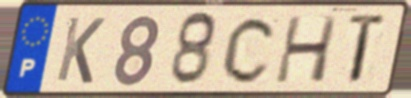8: (167, 10, 220, 90), (113, 12, 163, 88)
C: (219, 14, 281, 86)
H: (272, 14, 341, 86)
K: (53, 14, 108, 86)
T: (346, 12, 390, 88)
